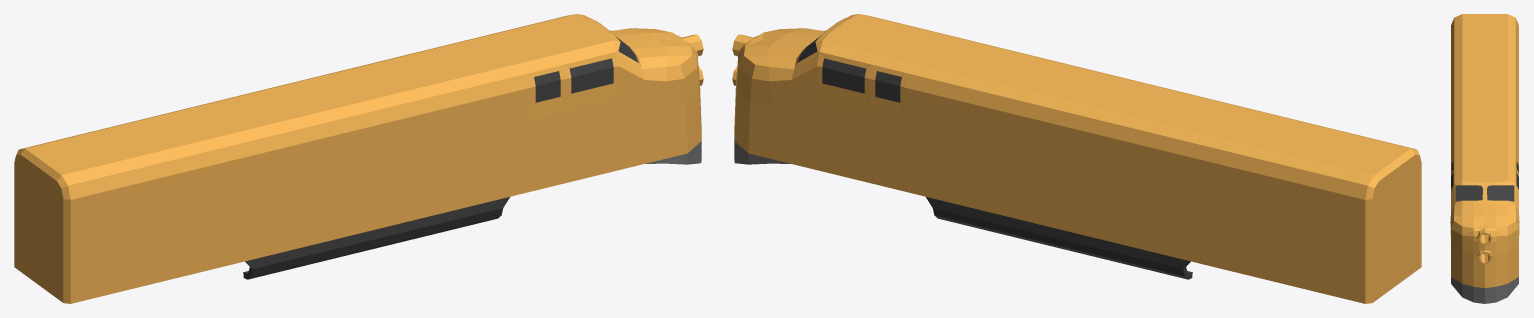
Rendered from locomotive.glb.
3 views of the same model, side by side, from view 1: azimuth 30°, elevation 25°; view 2: azimuth 150°, elevation 25°; view 3: azimuth 270°, elevation 25° (orthographic). The views are drawn at different scales.
Parts seen in each view (by area): view 1: Body; view 2: Body; view 3: Body.
Part boxes in pixels (x1,y1,x2,y2): Body: (14, 14, 703, 303); Body: (732, 14, 1421, 303); Body: (1450, 14, 1519, 303).
Bounding box in the file's own units: 19.99 × 4.28 × 2.92.
1 material, 1 textured.
